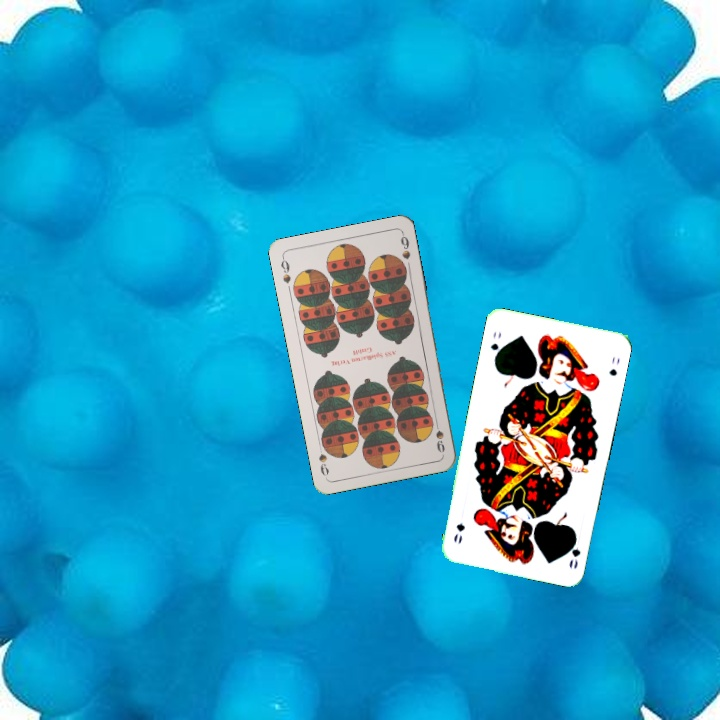GO: (565, 531, 583, 571), (486, 327, 504, 363)
S9: (431, 415, 448, 456), (277, 253, 293, 286)
